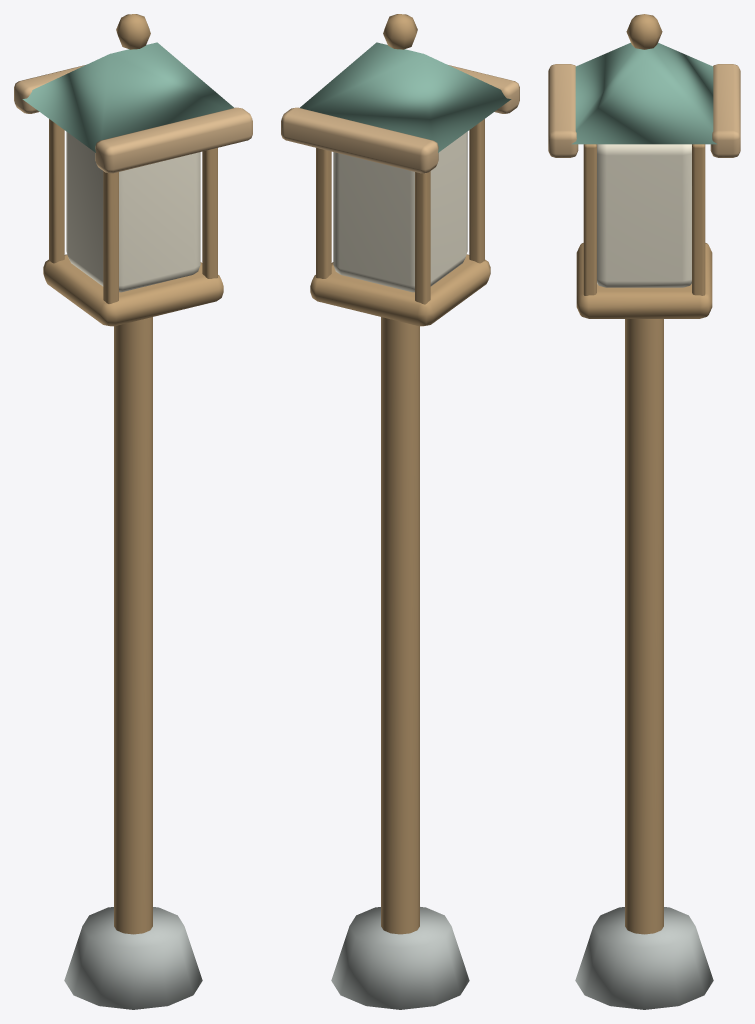
File: lamp.glb
3 renders of one model, left to right at view 1: azimuth 30°, elevation 25°; view 2: azimuth 150°, elevation 25°; view 3: azimuth 270°, elevation 25°, orthographic.
Size of the model in its own units: 0.57 by 3.55 by 0.6401.
